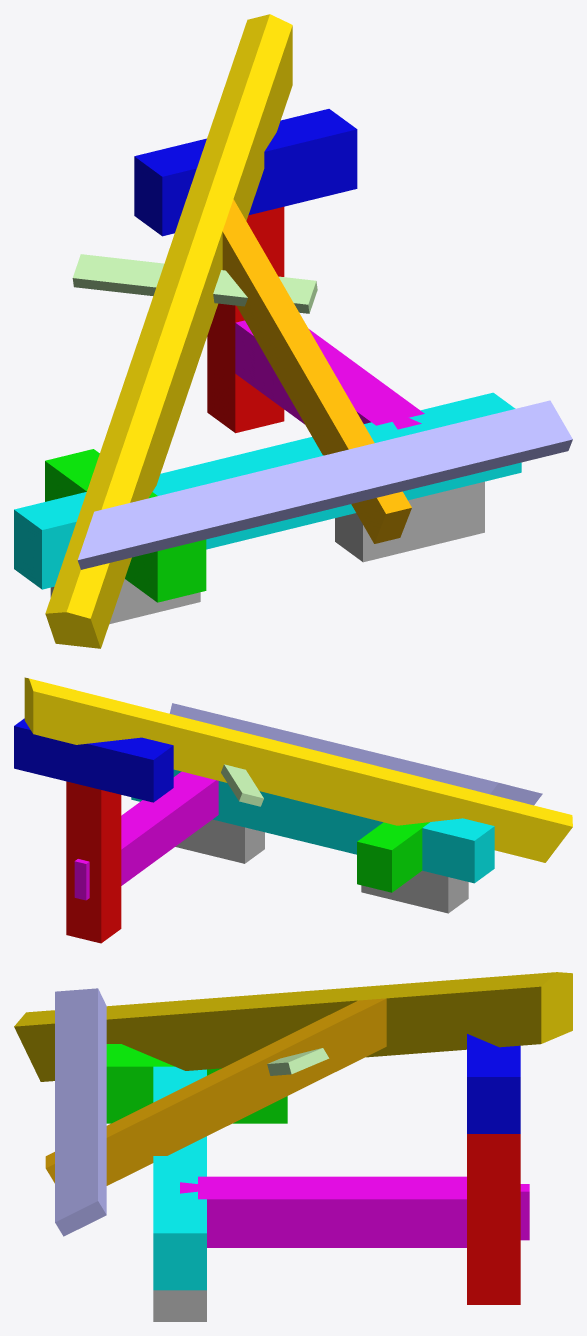
File: 1class.glb
3 renders of one model, top to bottom at view 1: azimuth 30°, elevation 25°; view 2: azimuth 150°, elevation 25°; view 3: azimuth 270°, elevation 25°, orthographic. The views are drawn at different scales.
Visible parts, largest first — view 1: Model, Group1; view 2: Model, Group1; view 3: Model, Group1.
Boxes of the visible parts, x1=… form: Model: x1=14, y1=14, x2=572, y2=648; Group1: x1=335, y1=481, x2=484, y2=562; Model: x1=14, y1=677, x2=572, y2=943; Group1: x1=175, y1=819, x2=264, y2=863; Model: x1=14, y1=972, x2=572, y2=1304; Group1: x1=153, y1=1290, x2=206, y2=1321.
Size of the model in its own units: 655 by 429 by 624.
